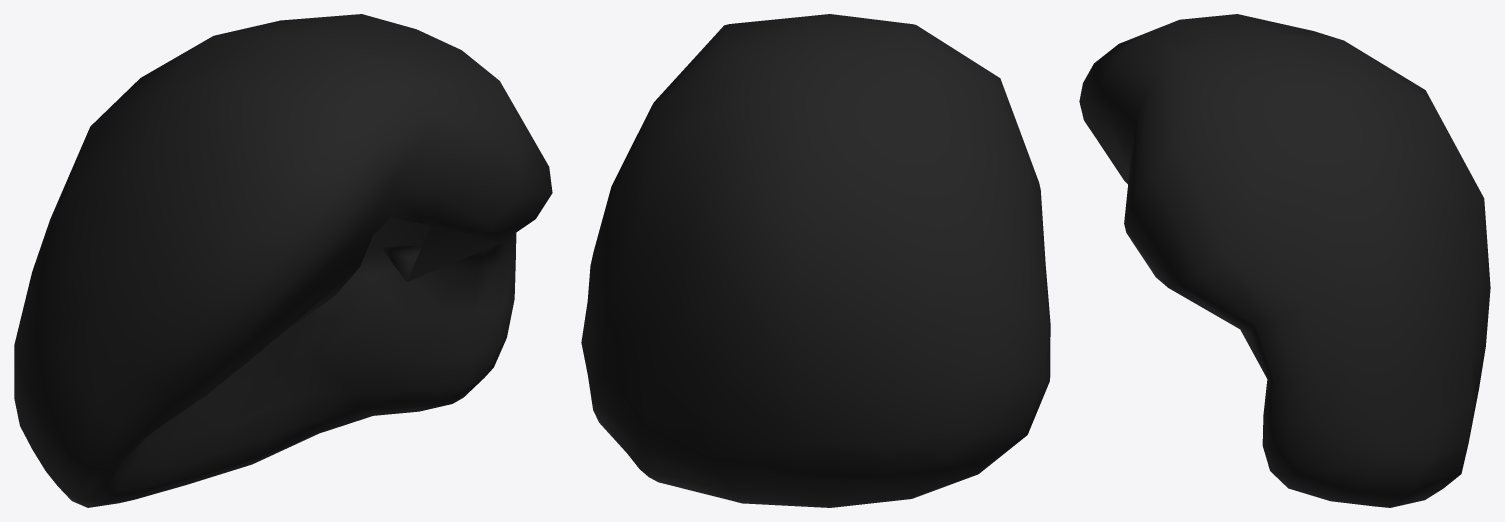
The model's file is Hair_002.glb.
3 views of the same model, side by side, from view 1: azimuth 30°, elevation 25°; view 2: azimuth 150°, elevation 25°; view 3: azimuth 270°, elevation 25° (orthographic). The views are drawn at different scales.
Visible parts, largest first — view 1: Hair_002; view 2: Hair_002; view 3: Hair_002.
Part boxes in pixels (<box>): Hair_002: <box>14,14,552,507</box>; Hair_002: <box>581,14,1050,507</box>; Hair_002: <box>1079,14,1490,507</box>.
Size of the model in its own units: 0.5396 by 0.5134 by 0.4434.
1 material, 1 textured.
